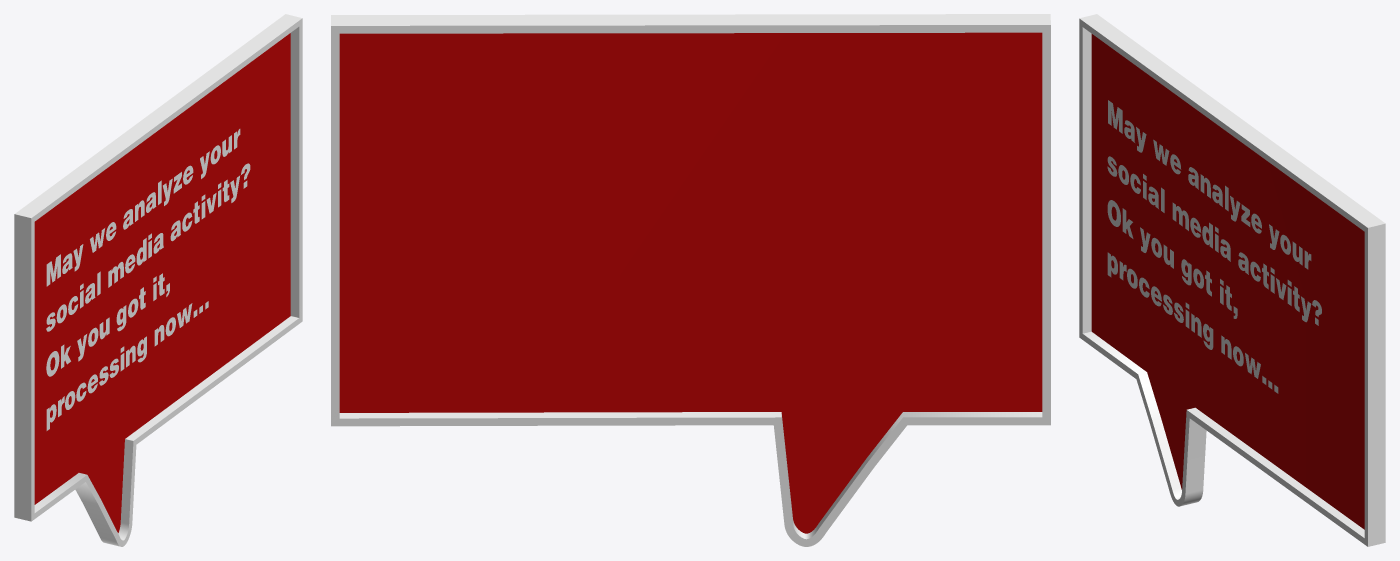
The model's file is speechBubble.dae.
3 renders of one model, left to right at view 1: azimuth 30°, elevation 25°; view 2: azimuth 150°, elevation 25°; view 3: azimuth 270°, elevation 25°, orthographic. The views are drawn at different scales.
Parts seen in each view (by area): view 1: Sweep.1; view 2: Sweep.1; view 3: Sweep.1.
Boxes of the visible parts, x1,y1,x2,y2 form: Sweep.1: [14, 14, 302, 546]; Sweep.1: [331, 14, 1050, 546]; Sweep.1: [1079, 14, 1385, 546].
Bounding box in the file's own units: 133 × 120 × 80.23.
